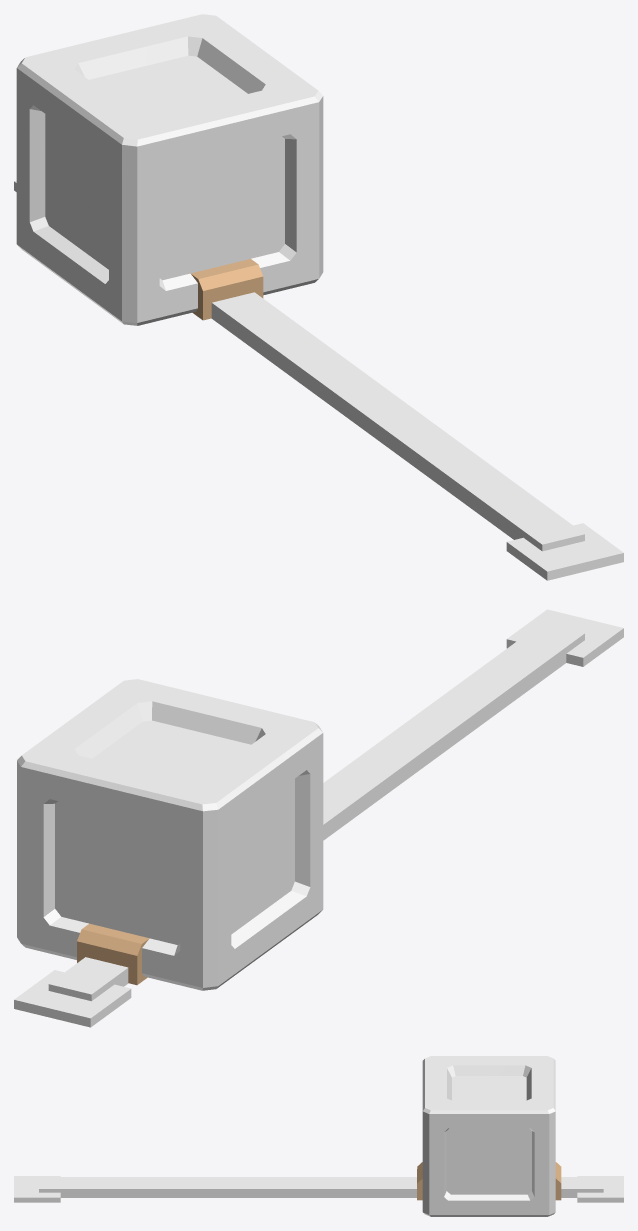
Rendered from rails.fbx.
3 views of the same model, one above another, from view 1: azimuth 30°, elevation 25°; view 2: azimuth 150°, elevation 25°; view 3: azimuth 270°, elevation 25° (orthographic). The views are drawn at different scales.
Parts seen in each view (by area): view 1: crate, Rail, Point02; view 2: crate, Rail, Point01, Point02; view 3: crate, Rail, Point02, Point01.
Part boxes in pixels (x1,y1,x2,y2): crate: (16, 14, 323, 325); Rail: (211, 292, 584, 551); Point02: (506, 523, 623, 580); crate: (17, 679, 323, 990); Rail: (48, 623, 584, 1001); Point01: (14, 970, 131, 1027); Point02: (506, 609, 623, 666); crate: (417, 1056, 561, 1216); Rail: (39, 1177, 603, 1197); Point02: (14, 1176, 60, 1202); Point01: (577, 1176, 623, 1202).
Size of the model in its own units: 0.91 by 0.8218 by 4.17.
